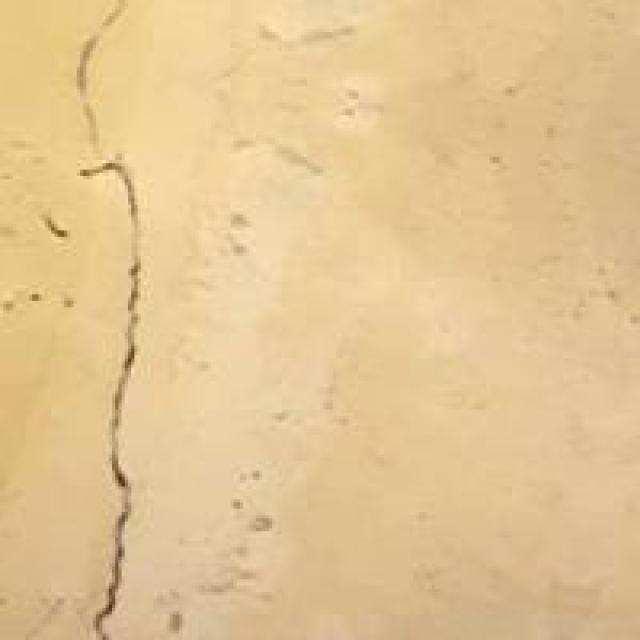crack: (45, 6, 243, 637)
